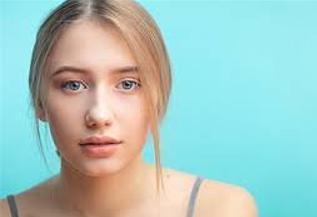Sober: (45, 24, 146, 174)
